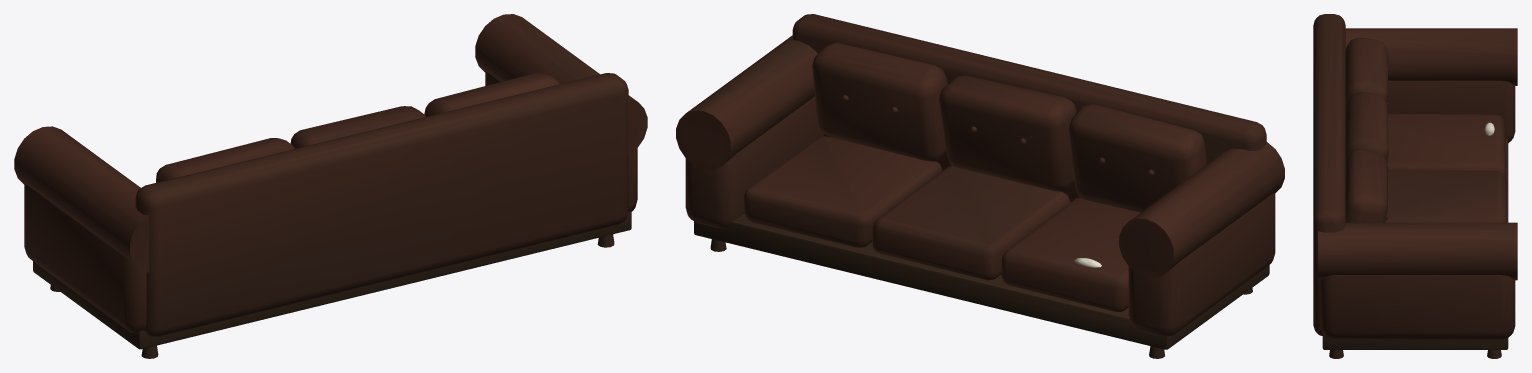
Rendered from Sofa.glb.
3 views of the same model, side by side, from view 1: azimuth 30°, elevation 25°; view 2: azimuth 150°, elevation 25°; view 3: azimuth 270°, elevation 25° (orthographic). The views are drawn at different scales.
Parts seen in each view (by area): view 1: Sofa_leather_sofa, Sofa_wood_dark; view 2: Sofa_leather_sofa, Sofa_wood_dark; view 3: Sofa_leather_sofa, Sofa_wood_dark.
Boxes of the visible parts, x1=… form: Sofa_leather_sofa: x1=14, y1=14, x2=647, y2=336; Sofa_wood_dark: x1=33, y1=211, x2=631, y2=358; Sofa_leather_sofa: x1=676, y1=14, x2=1284, y2=336; Sofa_wood_dark: x1=694, y1=213, x2=1269, y2=358; Sofa_leather_sofa: x1=1313, y1=14, x2=1517, y2=339; Sofa_wood_dark: x1=1322, y1=138, x2=1508, y2=358.
Bounding box in the file's own units: 11.12 × 3.51 × 4.4.
